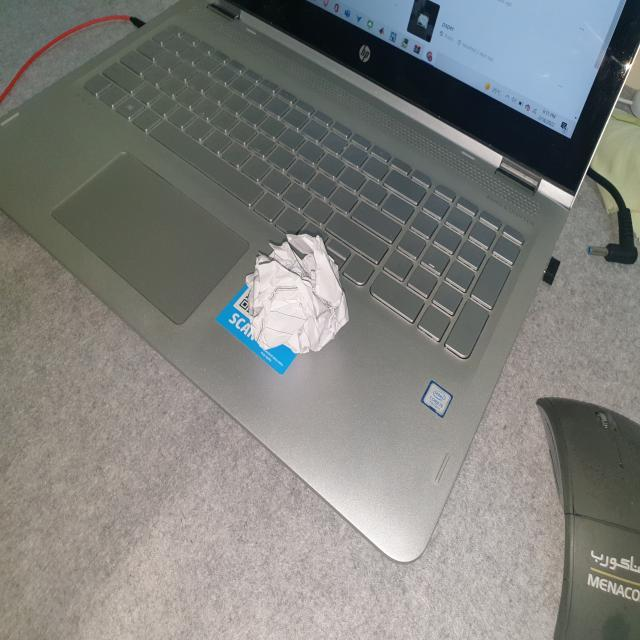Paper: (252, 235, 348, 352)
